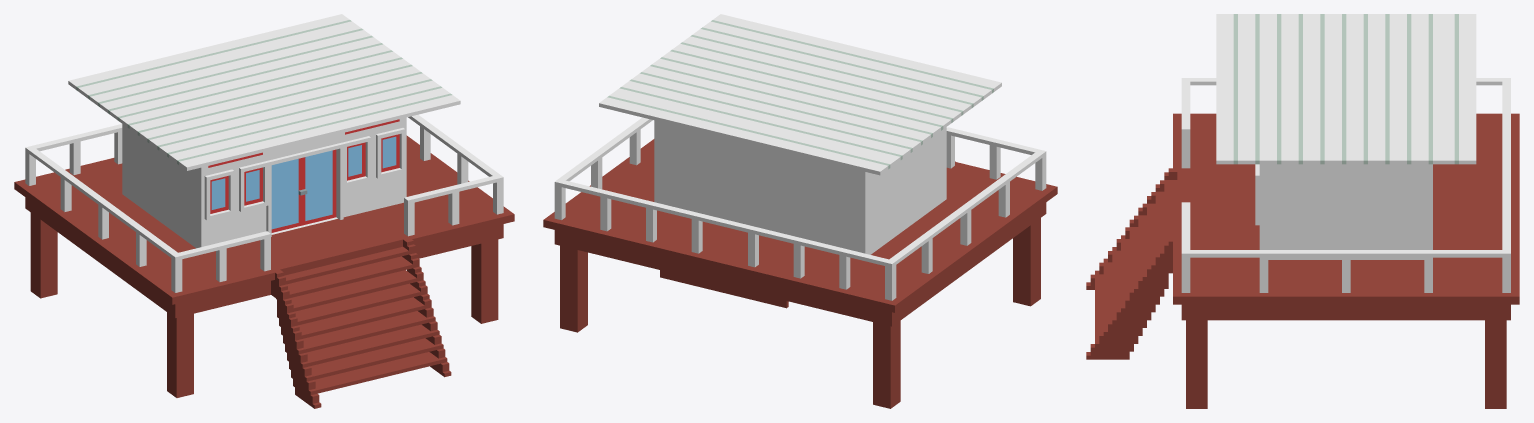
Rendered from lifeguard-tower.obj.
3 renders of one model, left to right at view 1: azimuth 30°, elevation 25°; view 2: azimuth 150°, elevation 25°; view 3: azimuth 270°, elevation 25°, orthographic. The views are drawn at different scales.
Size of the model in its own units: 10 by 6 by 10.
1 material, 1 textured.
